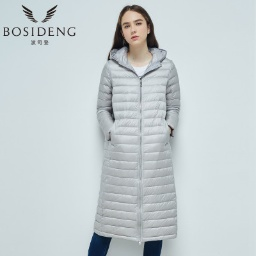face: (111, 5, 157, 49)
